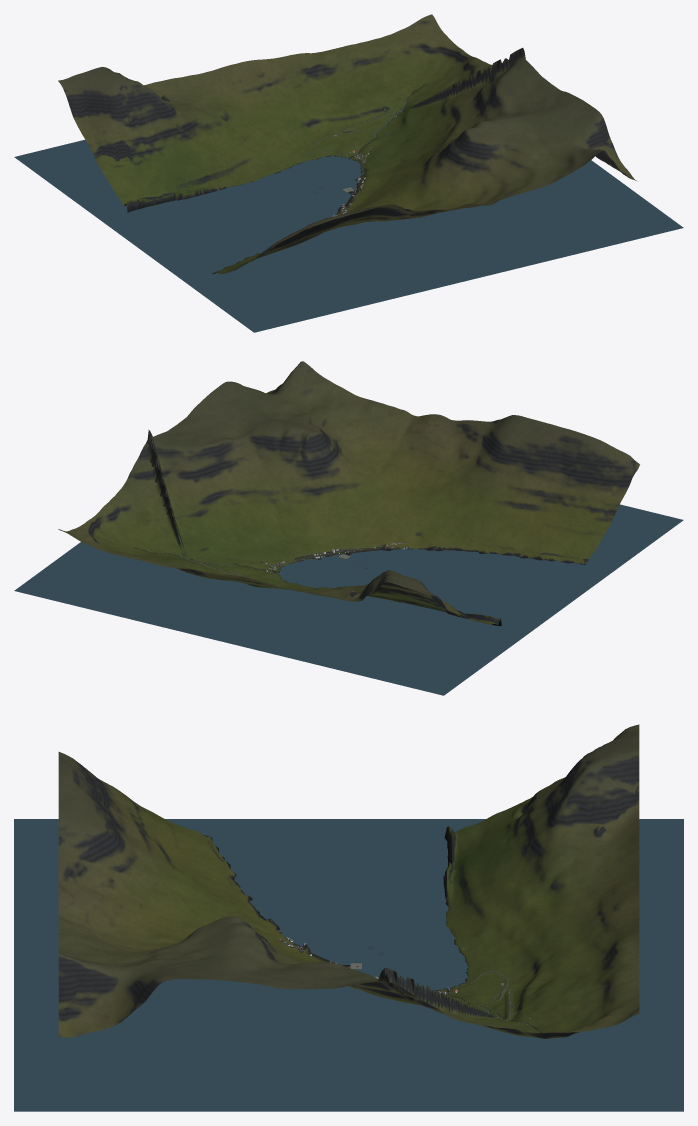
The model's file is TunnelExit.fbx.
The picture shows the model from 3 angles, top to bottom: view 1: azimuth 30°, elevation 25°; view 2: azimuth 150°, elevation 25°; view 3: azimuth 270°, elevation 25°; orthographic projection. The views are drawn at different scales.
Parts seen in each view (by area): view 1: Exit_Terrain, Exit_Water; view 2: Exit_Terrain, Exit_Water; view 3: Exit_Water, Exit_Terrain.
Part boxes in pixels (bbox=[...]): Exit_Terrain: bbox=[58, 14, 636, 273]; Exit_Water: bbox=[14, 86, 683, 332]; Exit_Terrain: bbox=[58, 361, 639, 626]; Exit_Water: bbox=[14, 504, 683, 695]; Exit_Water: bbox=[14, 819, 683, 1111]; Exit_Terrain: bbox=[58, 724, 639, 1038].
Bounding box in the file's own units: 3100 × 630 × 3000.
Materials: 23 (3 with a texture image).
